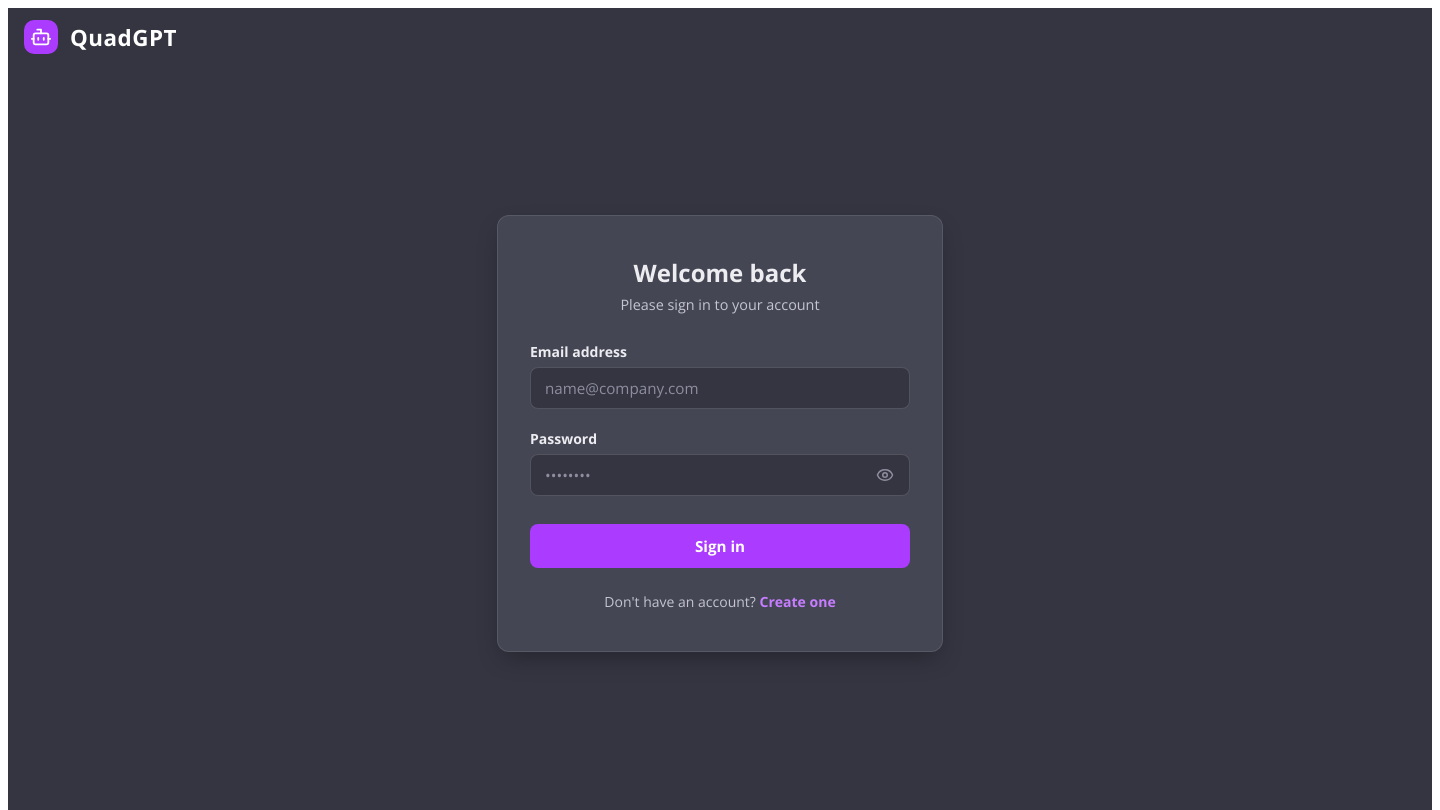
it: Connexion › does not call the server when the passwords do not match
Click the button "Create one".
click(798, 601)  # box [760,592,836,610]
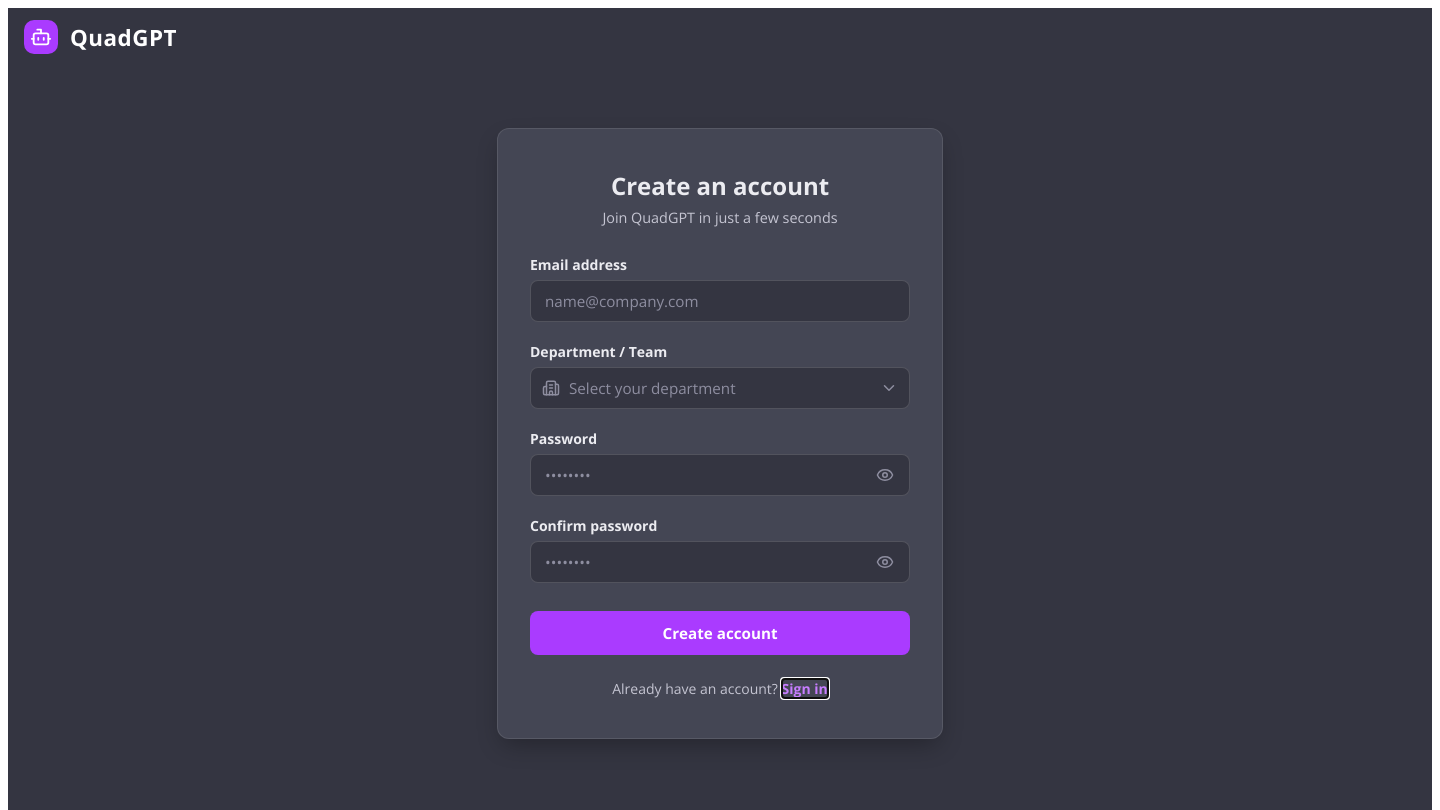
Type "rh@quadria.fr" into the field labelled "Email address".
click(720, 300); type("rh@quadria.fr")  # box [530,280,910,322]
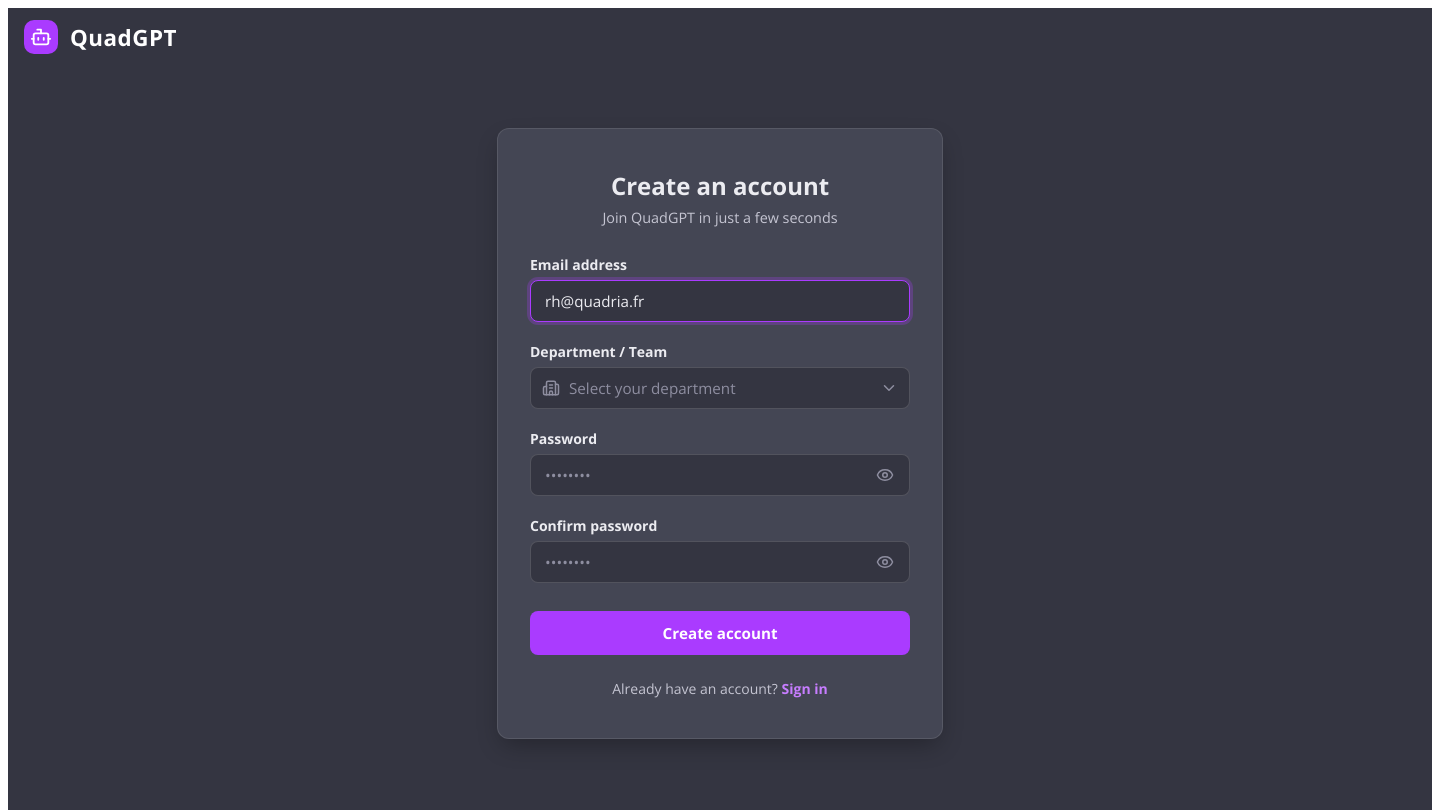
Select "Human Resources (HR)" in the dropdown labelled "Department / Team" at (720, 388), box [530,366,910,408]
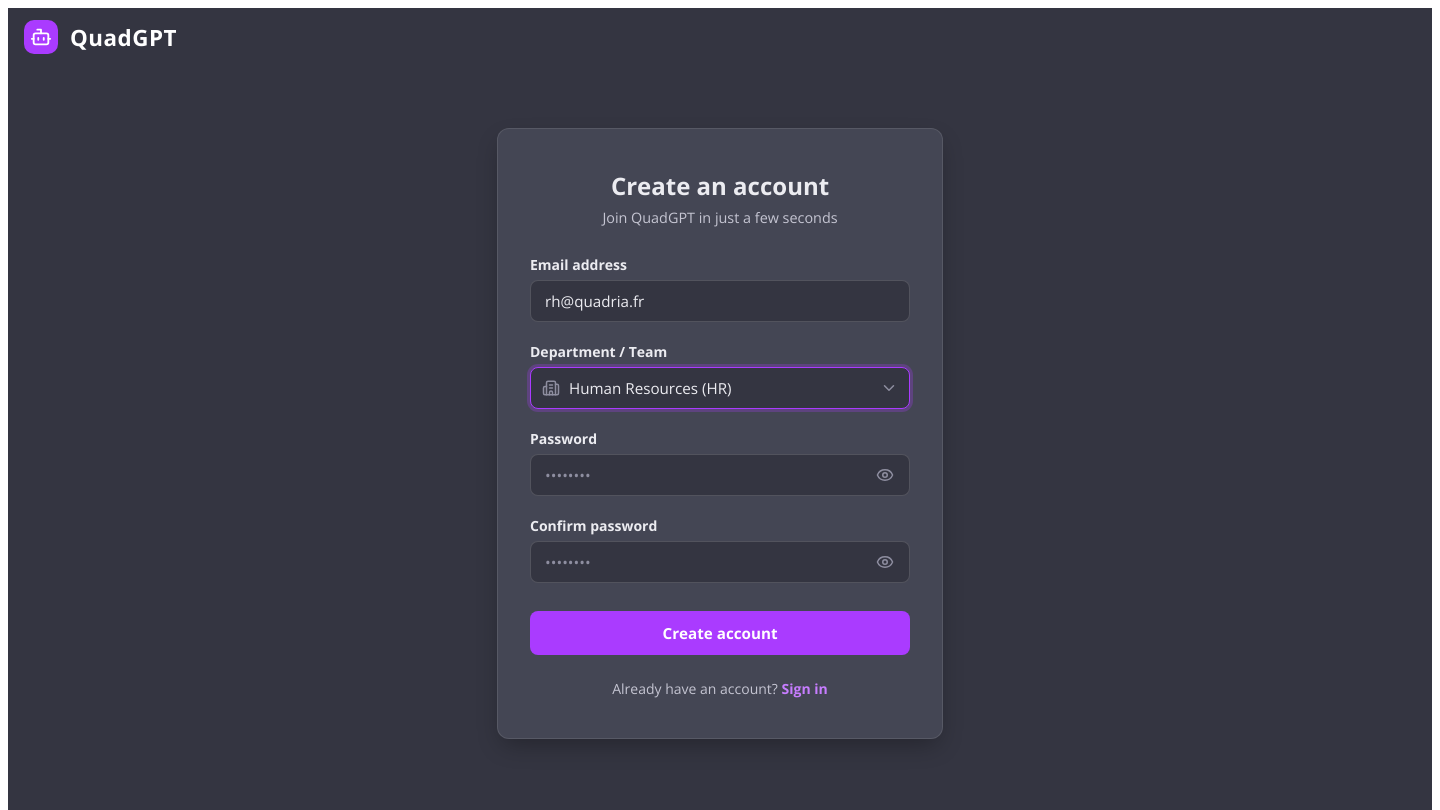
Type "motdepasse" into the password field labelled "Password".
click(720, 474); type("motdepasse")  # box [530,454,910,496]
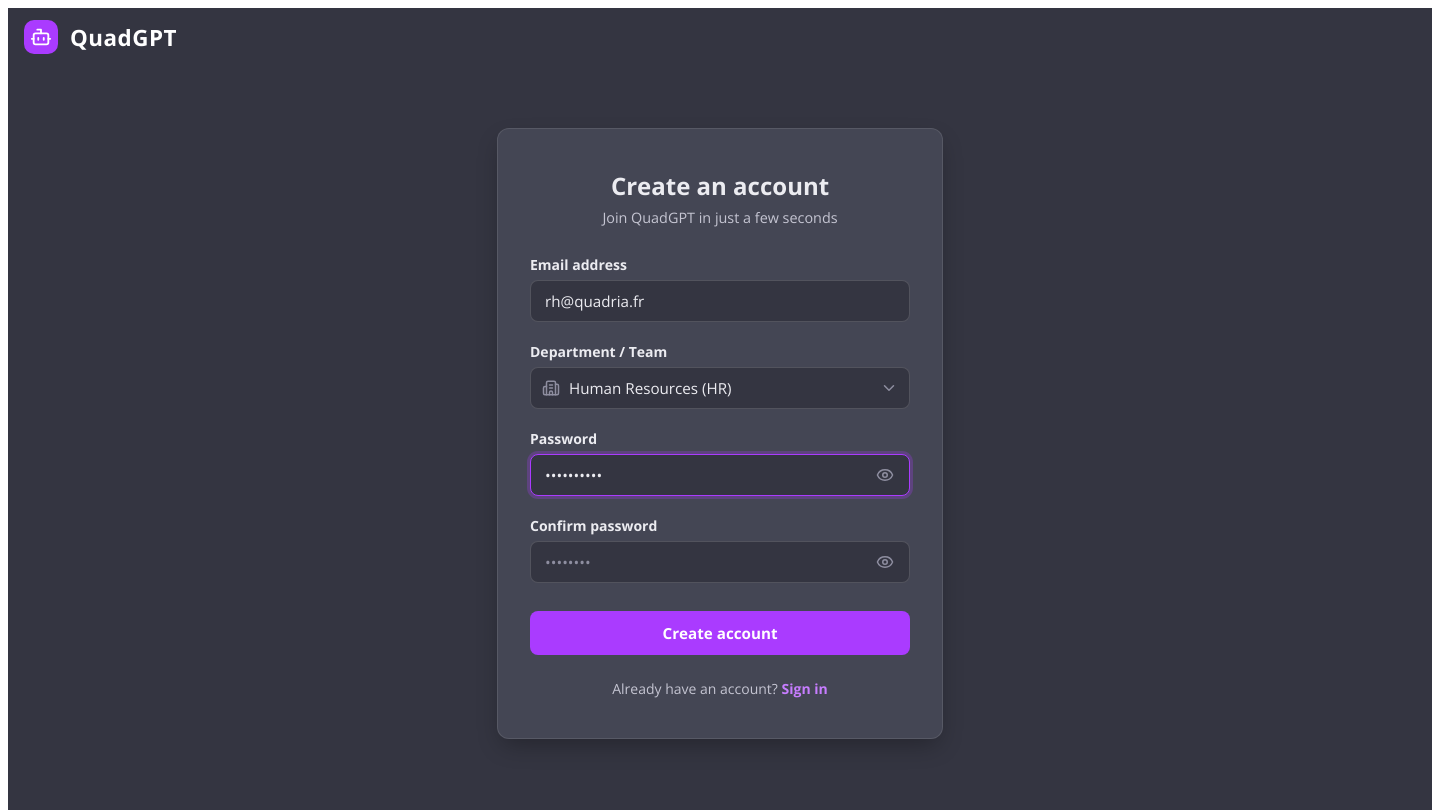
Type "autre-mot" into the password field labelled "Confirm password".
click(720, 562); type("autre-mot")  # box [530,540,910,582]
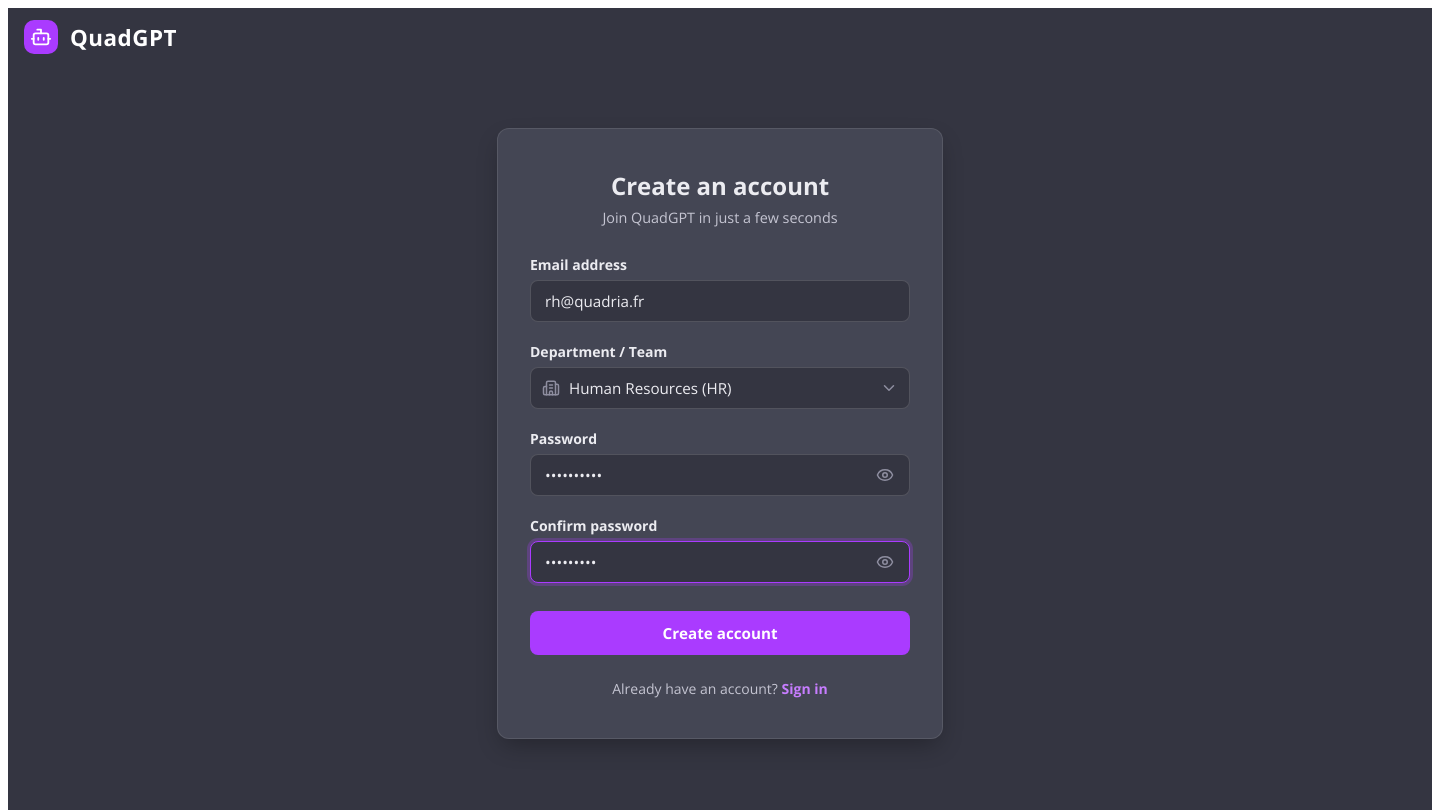
Click the button "Create account".
click(720, 632)  # box [530,610,910,654]
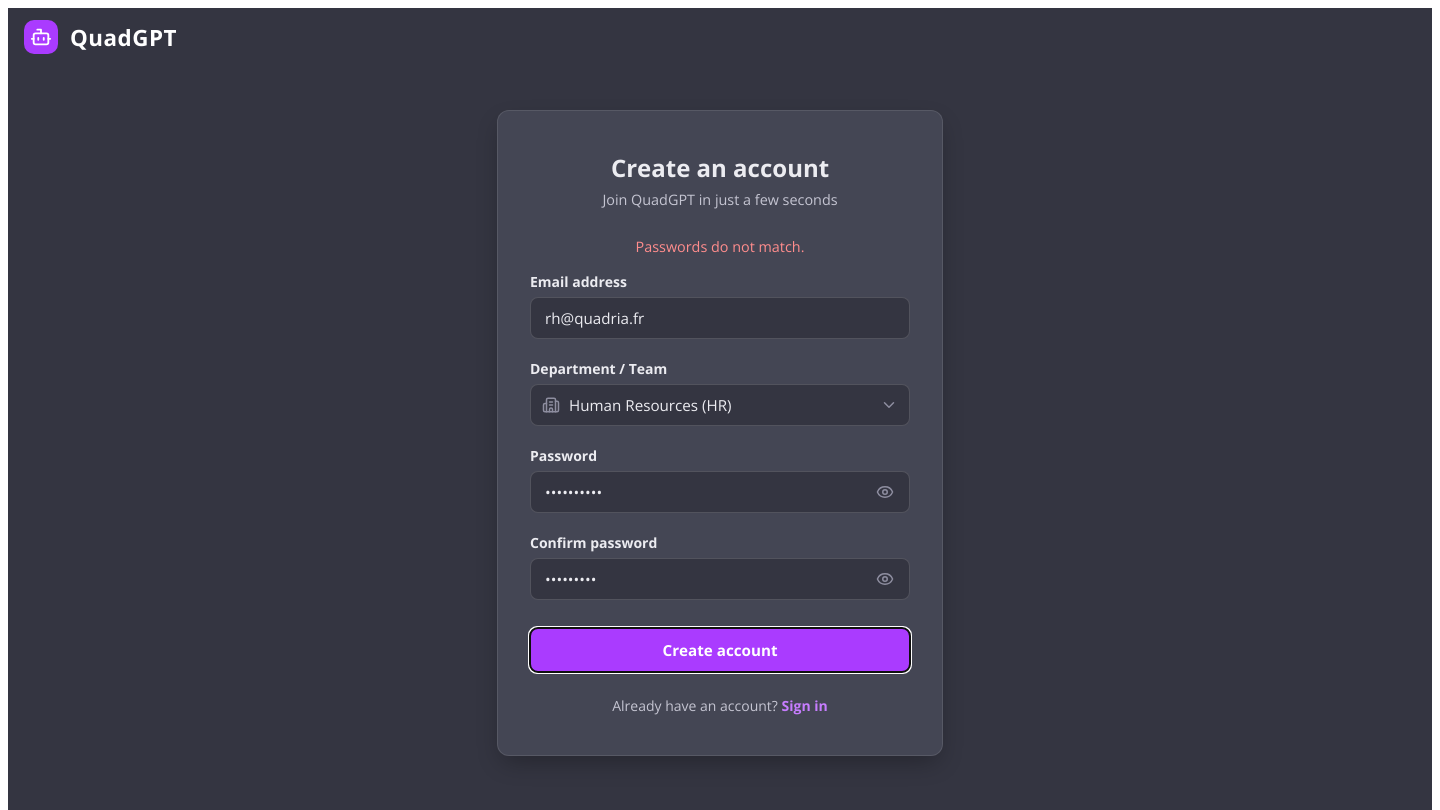
Now the text "Passwords do not match." is shown, box [636,237,804,256]
